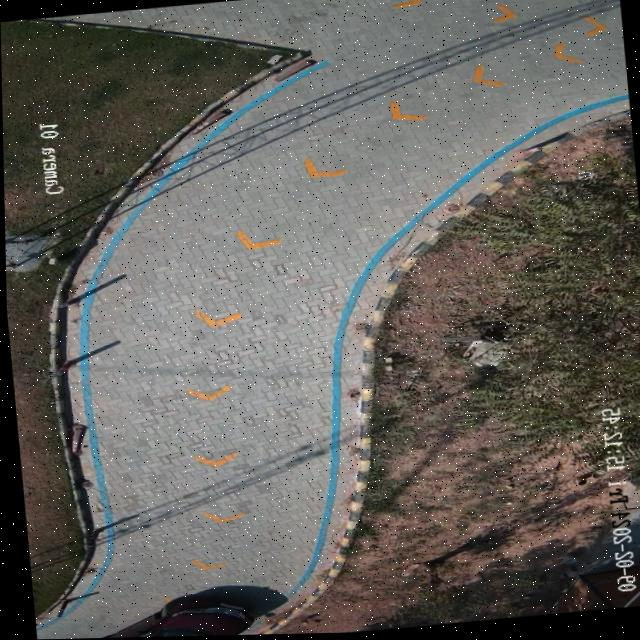car: (97, 601, 250, 638)
